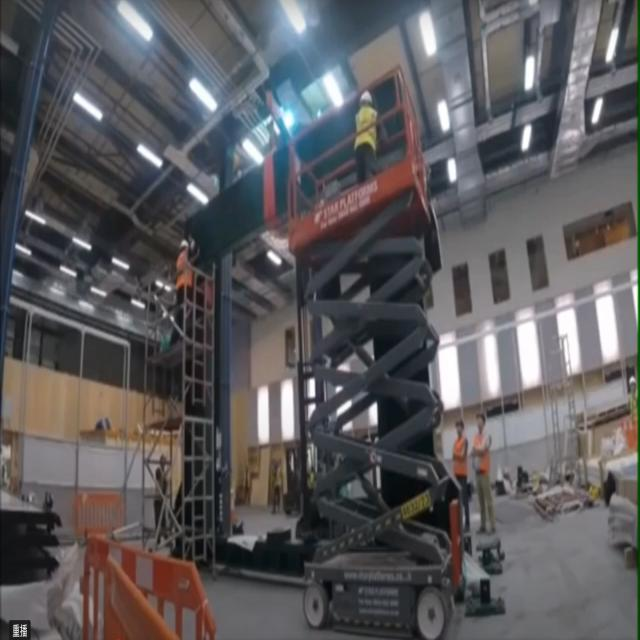2m above platform: (287, 85, 454, 640), (312, 282, 446, 636), (143, 276, 215, 560)
worker: (472, 414, 496, 520), (354, 91, 378, 174), (171, 230, 195, 308), (450, 412, 469, 499)
